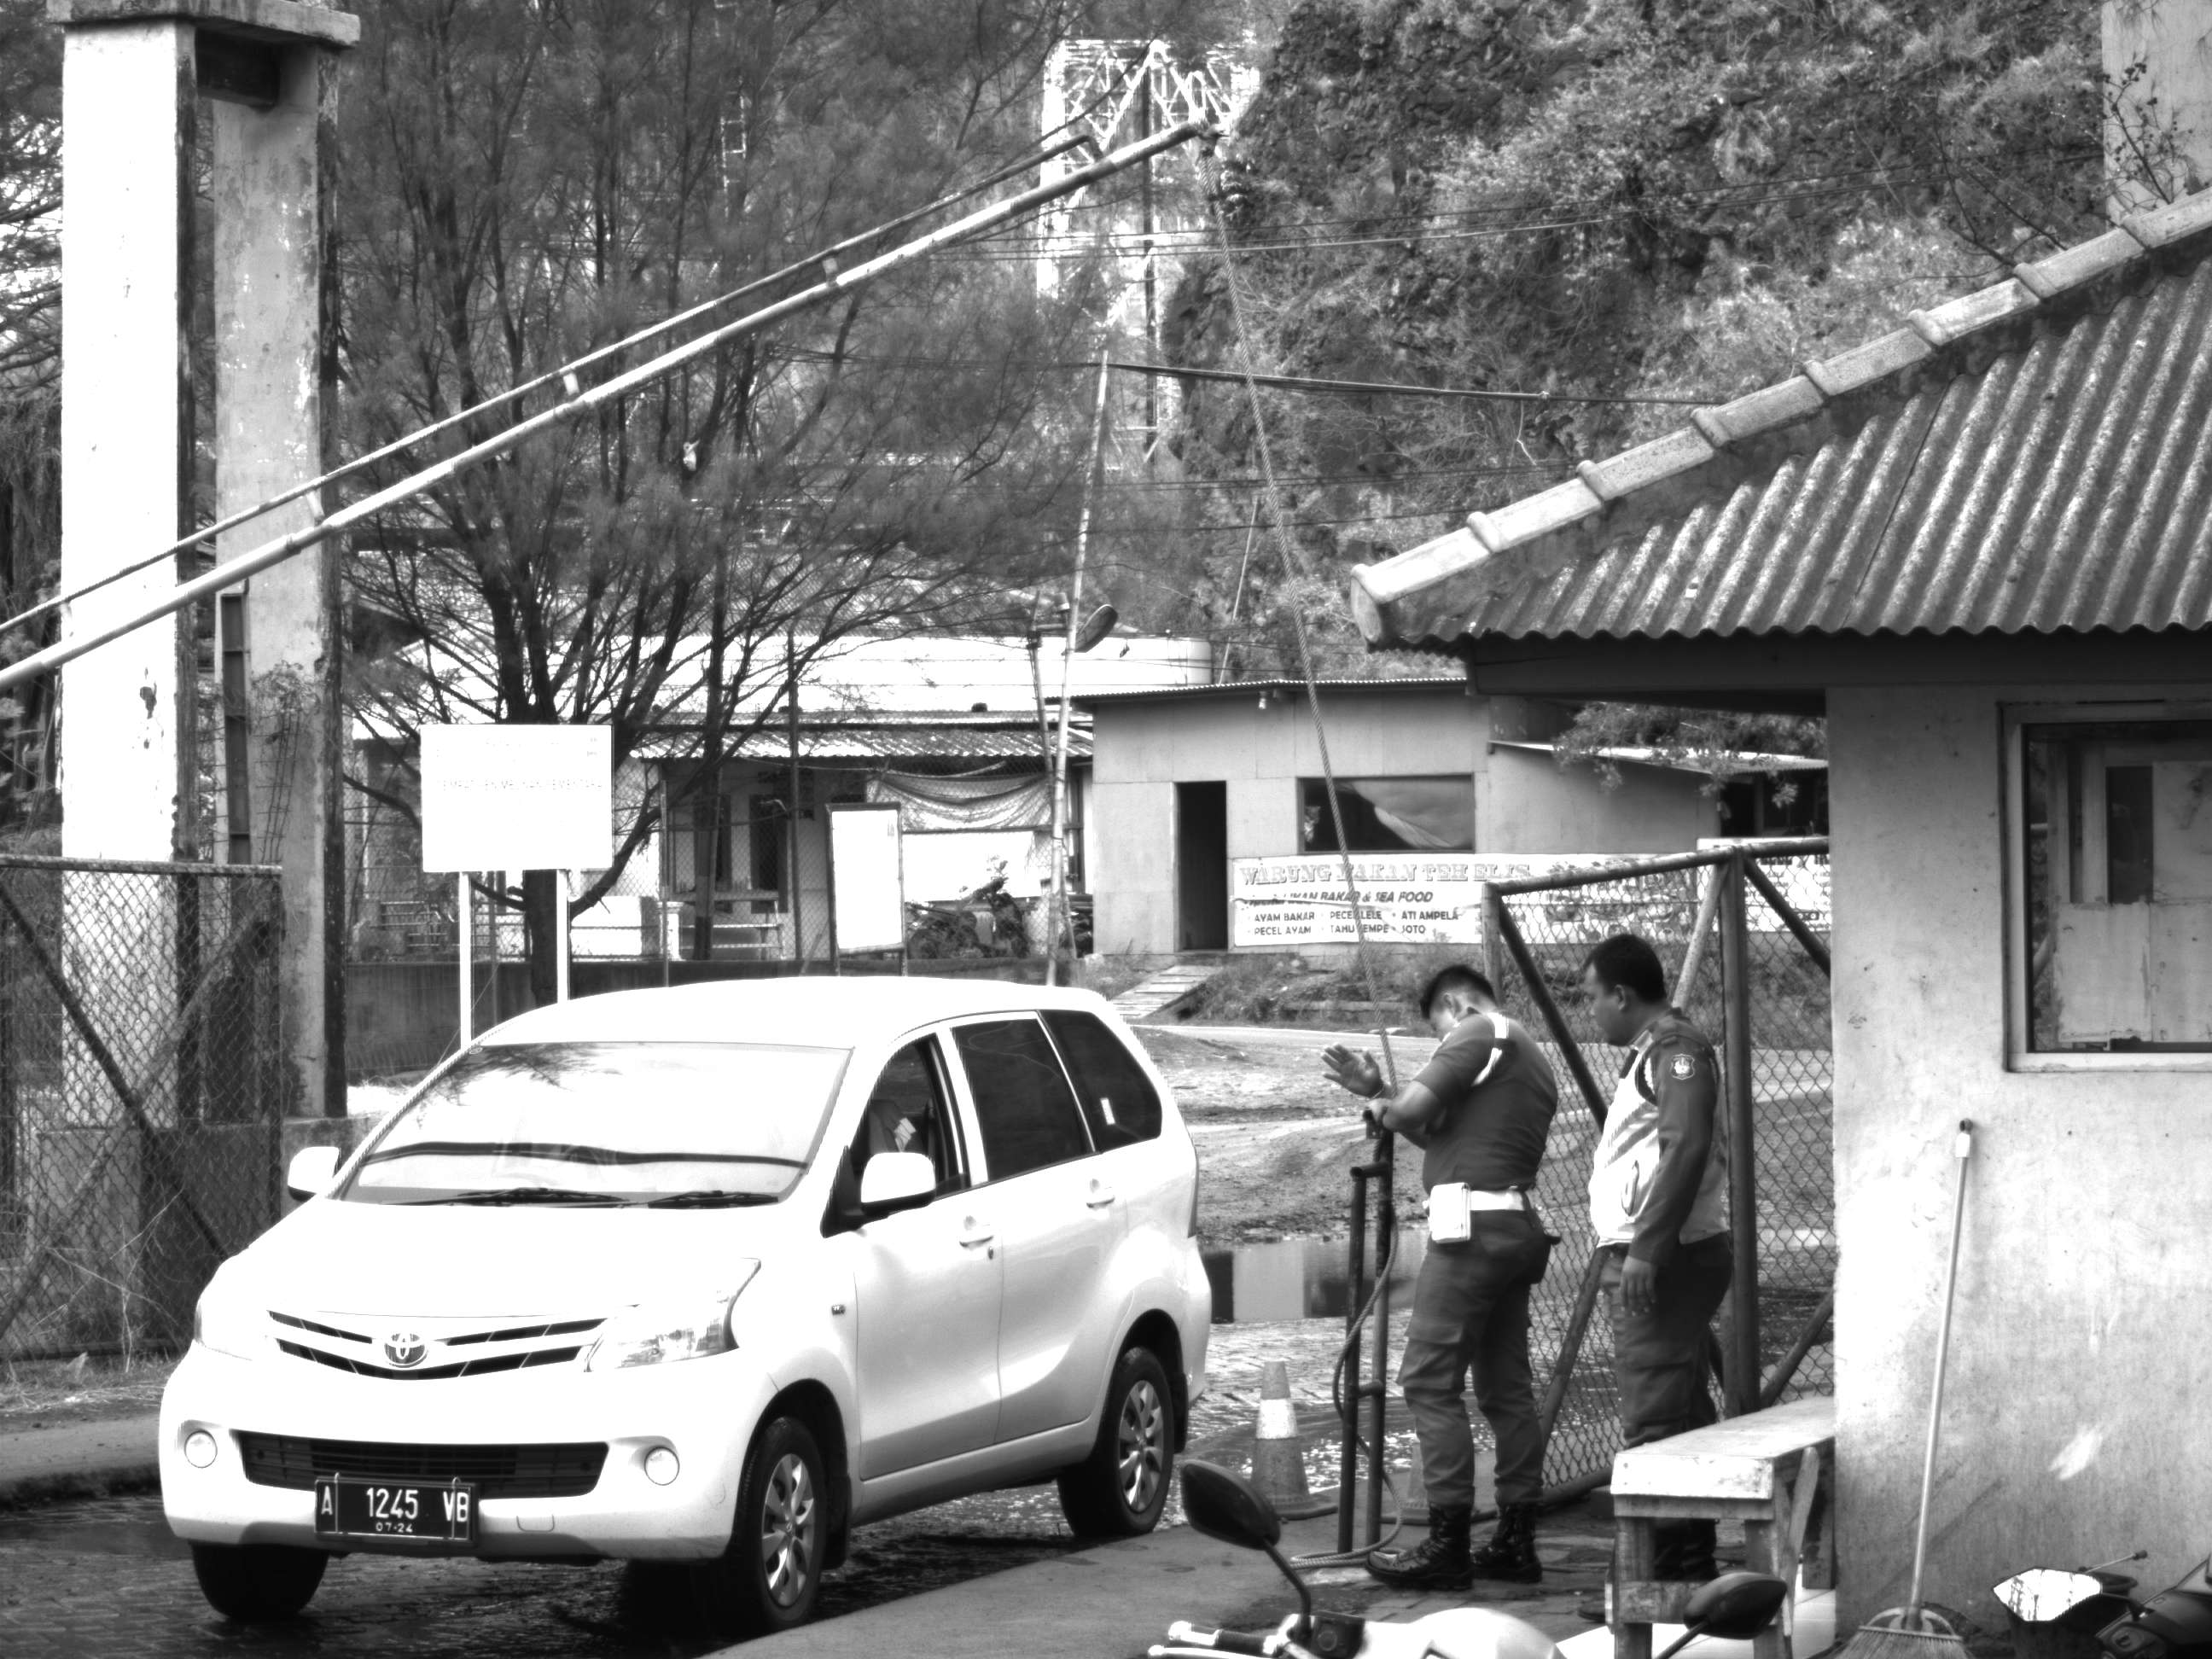day_small_front: (149, 983, 893, 1641)
plate: (313, 1472, 477, 1551)
